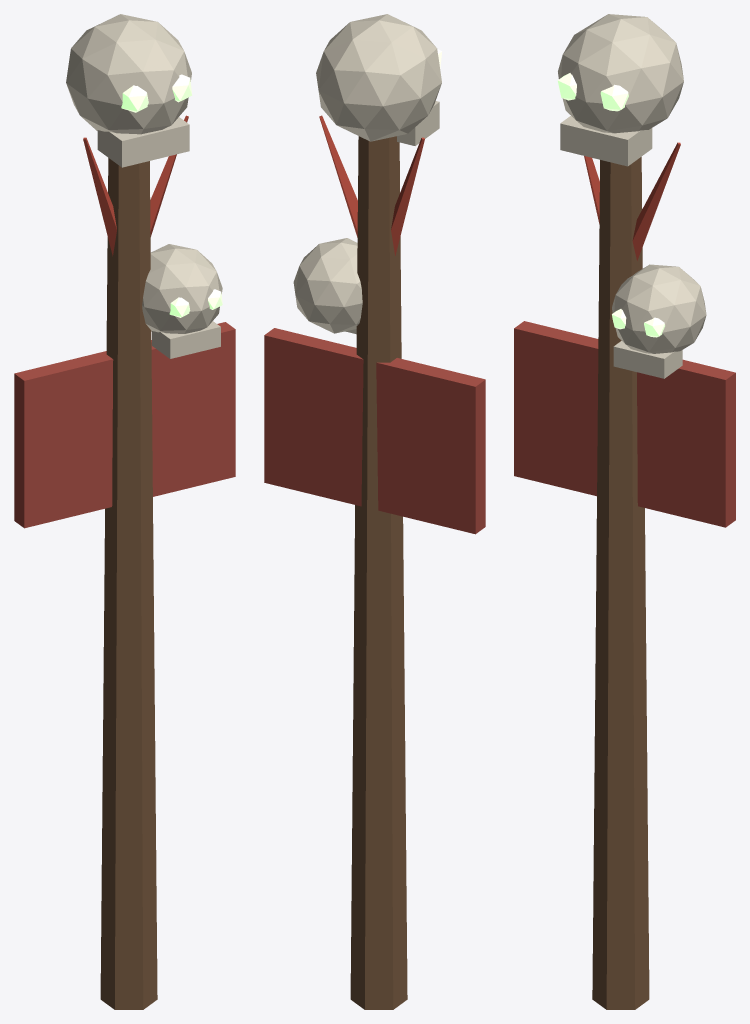
File: goblin_skull_pole.glb
The picture shows the model from 3 angles, left to right: view 1: azimuth 30°, elevation 25°; view 2: azimuth 150°, elevation 25°; view 3: azimuth 330°, elevation 25°; orthographic projection.
Parts seen in each view (by area): view 1: goblin_skull_pole; view 2: goblin_skull_pole; view 3: goblin_skull_pole.
Boxes of the visible parts, left/top/right/bottom form: goblin_skull_pole: left=14, top=14, right=235, bottom=1009; goblin_skull_pole: left=264, top=14, right=485, bottom=1009; goblin_skull_pole: left=514, top=14, right=735, bottom=1009.
Size of the model in its own units: 0.6 by 2.66 by 0.3432.
